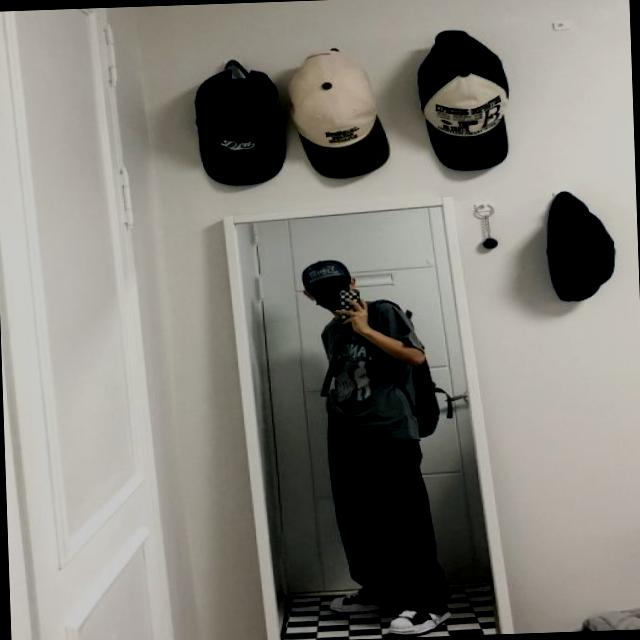shortsleeve: (319, 301, 429, 444)
slacks: (324, 412, 454, 616)
